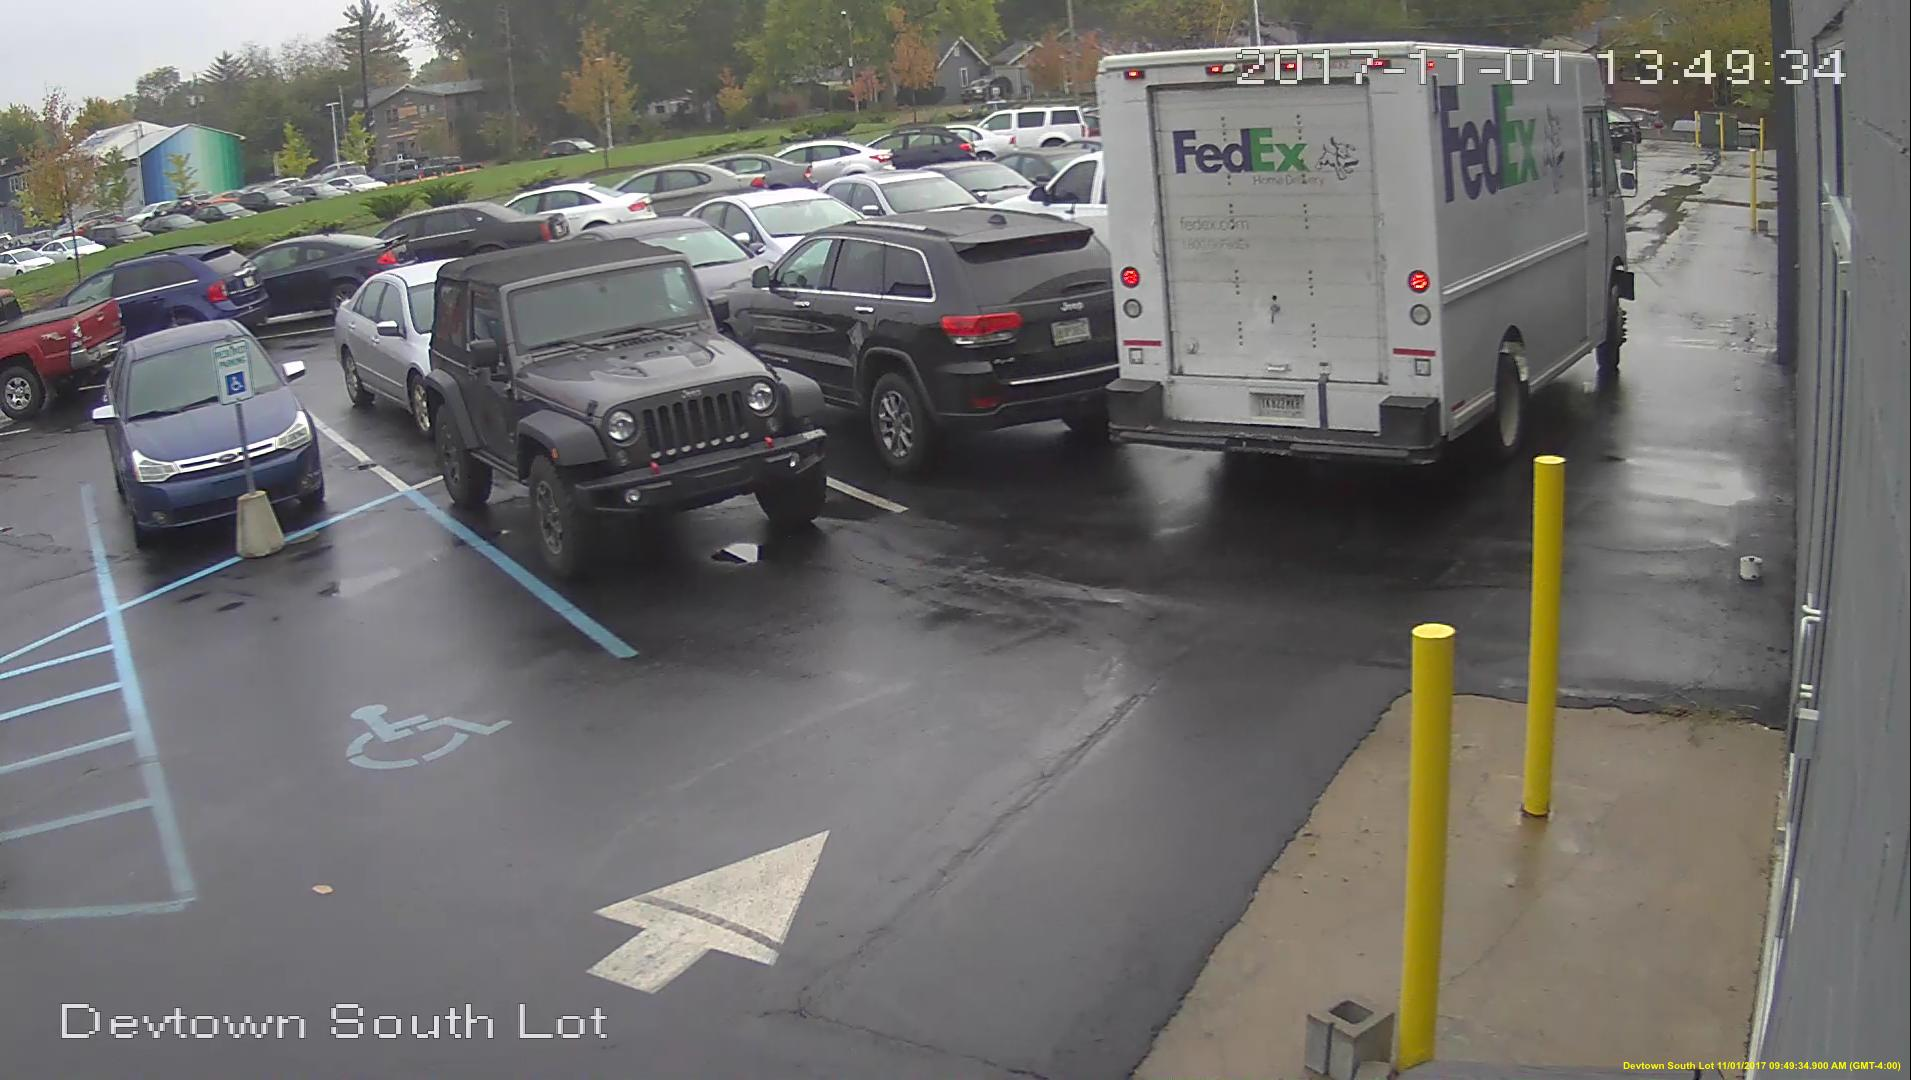fedex_truck: (1099, 49, 1637, 470)
